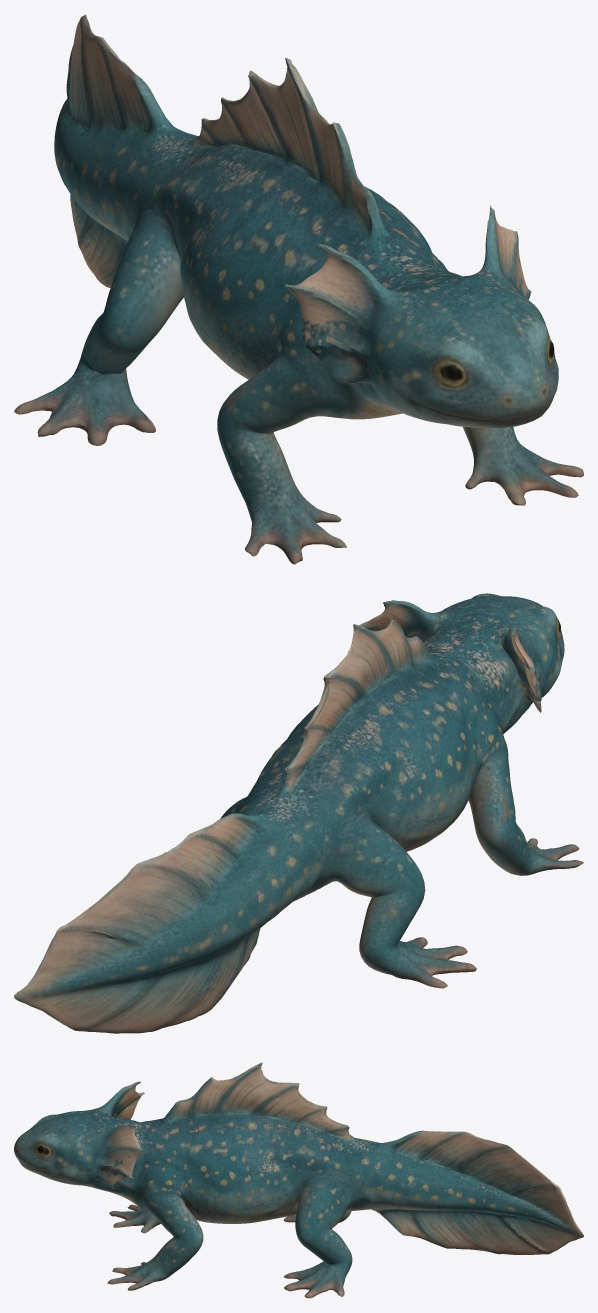
Rendered from paddlenewt.glb.
3 renders of one model, top to bottom at view 1: azimuth 30°, elevation 25°; view 2: azimuth 150°, elevation 25°; view 3: azimuth 270°, elevation 25°, orthographic. The views are drawn at different scales.
Parts seen in each view (by area): view 1: Mesh_0; view 2: Mesh_0; view 3: Mesh_0.
Part boxes in pixels (x1=…): Mesh_0: x1=14, y1=14, x2=583, y2=564; Mesh_0: x1=14, y1=593, x2=583, y2=1033; Mesh_0: x1=14, y1=1062, x2=583, y2=1298.
Size of the model in its own units: 0.7968 by 0.6847 by 1.9.
1 material, 1 textured.
